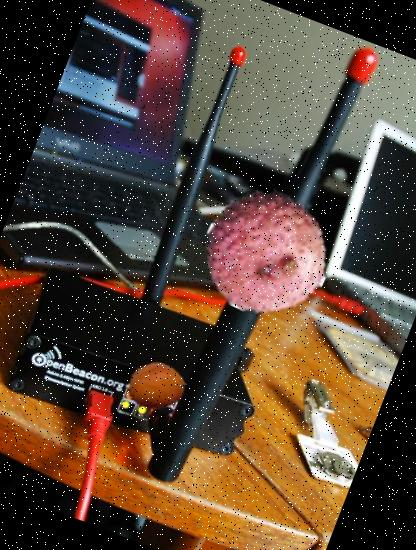Apricot: (120, 350, 192, 422)
Lychee: (185, 172, 349, 336)
